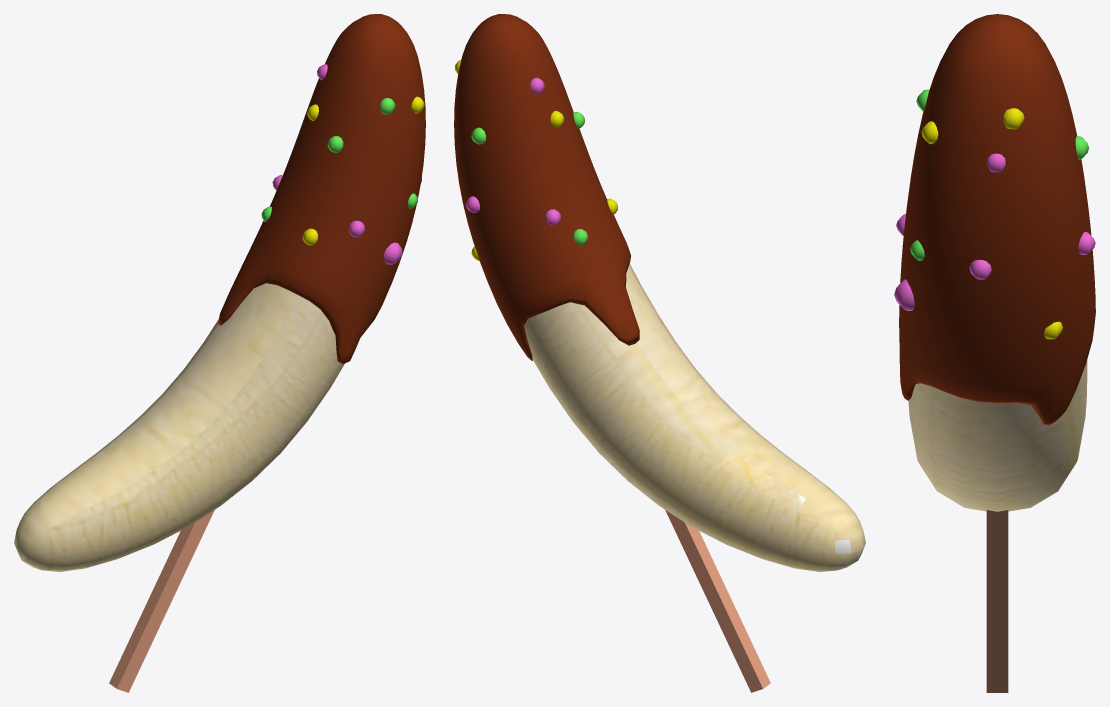
The model's file is chocobanana.glb.
The picture shows the model from 3 angles, left to right: view 1: azimuth 30°, elevation 25°; view 2: azimuth 150°, elevation 25°; view 3: azimuth 270°, elevation 25°; orthographic projection. The views are drawn at different scales.
Parts seen in each view (by area): view 1: Cube.002; view 2: Cube.002; view 3: Cube.002.
Part boxes in pixels (<box>): Cube.002: <box>14,14,425,692</box>; Cube.002: <box>454,14,865,692</box>; Cube.002: <box>894,14,1095,692</box>.
Size of the model in its own units: 6.93 by 10.08 by 2.18.
Materials: 6 (1 with a texture image).
